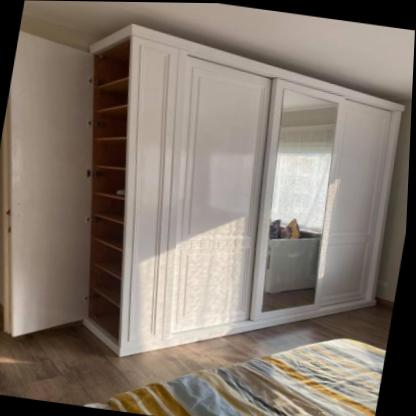Closet: (116, 26, 406, 358)
Wooden floor: (0, 308, 394, 406)
